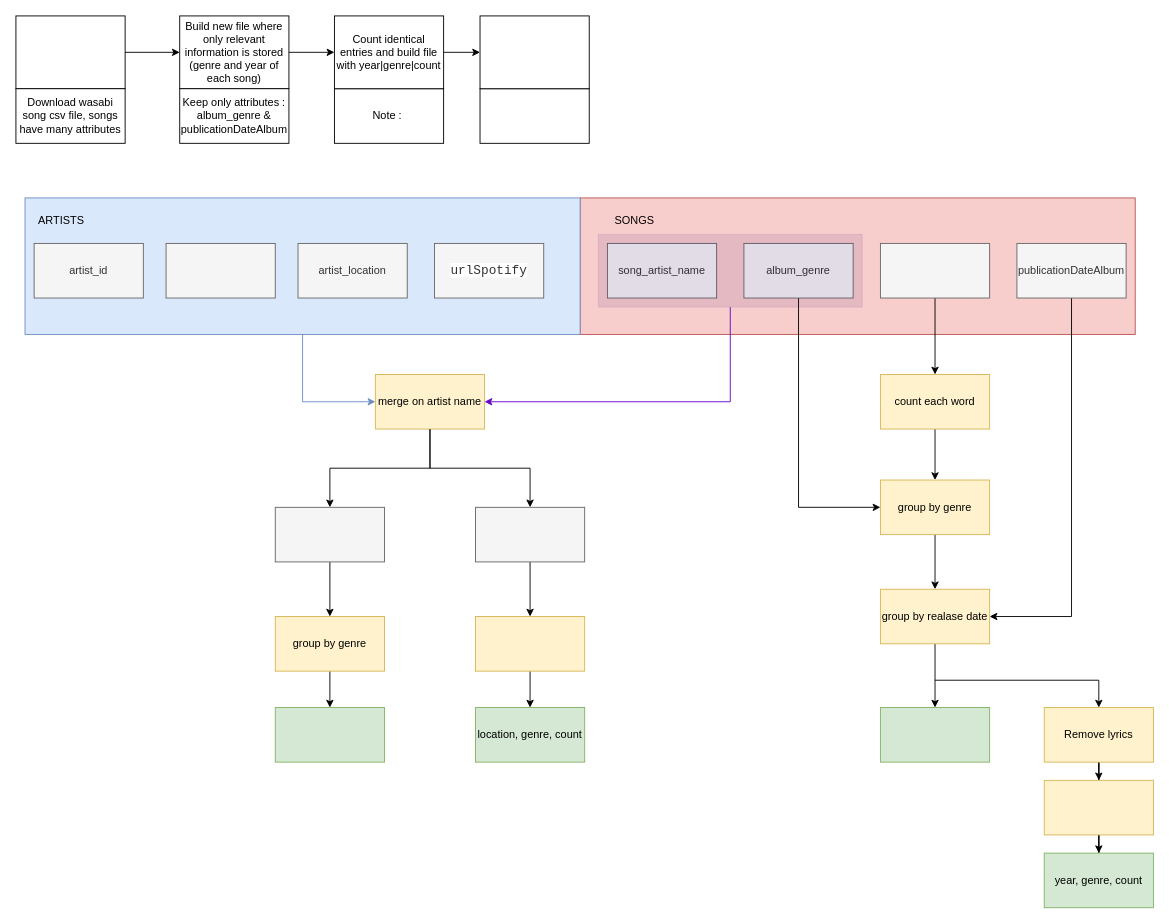
This 1169x924 diagram has some shape labels left out. Each missing label, with the box of its shape:
artist_name: (165, 243, 275, 298)
count identical (year,genre) tuples: (1043, 779, 1153, 835)
group by location and genre: (475, 616, 585, 671)
Group entries by parent genre: (479, 15, 589, 89)
id, name, location, genre: (475, 506, 585, 562)
id, name, url, genre: (274, 506, 384, 562)
rank artist by genre: (274, 707, 384, 762)
Retrieve all song data: (15, 15, 125, 89)
song_lyrics: (880, 243, 990, 298)
year, genre, word count: (880, 707, 990, 762)
